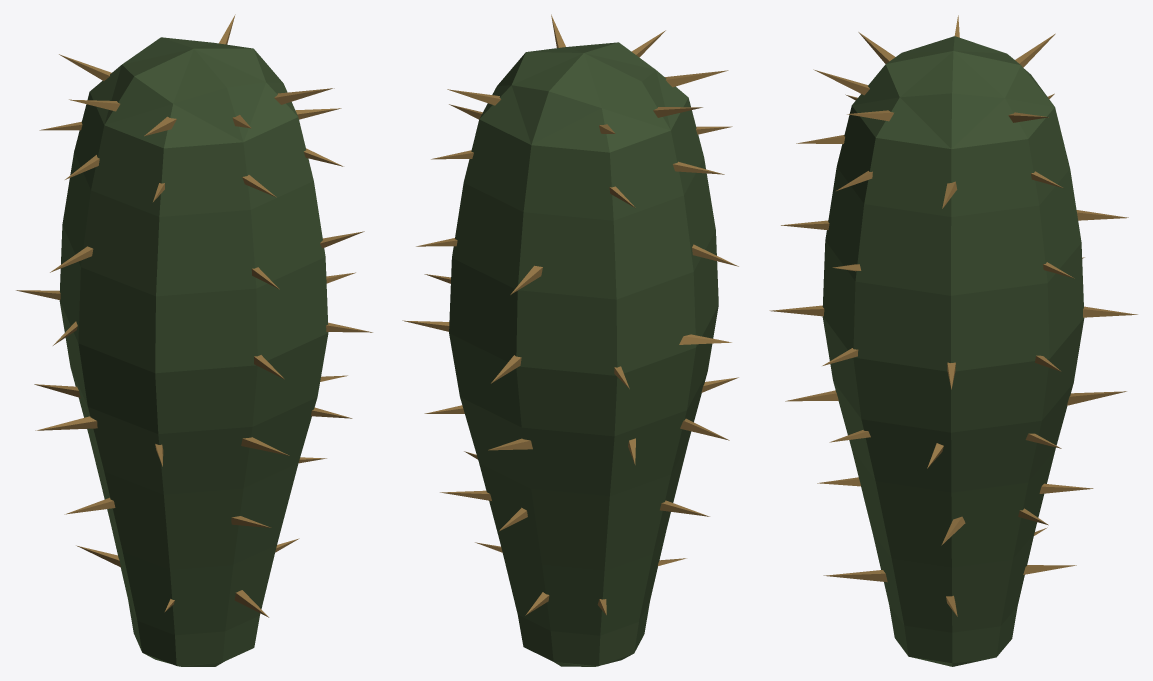
File: cactus-1.glb
The picture shows the model from 3 angles, left to right: view 1: azimuth 30°, elevation 25°; view 2: azimuth 150°, elevation 25°; view 3: azimuth 270°, elevation 25°; orthographic projection.
Size of the model in its own units: 0.5497 by 1.01 by 0.5629.
